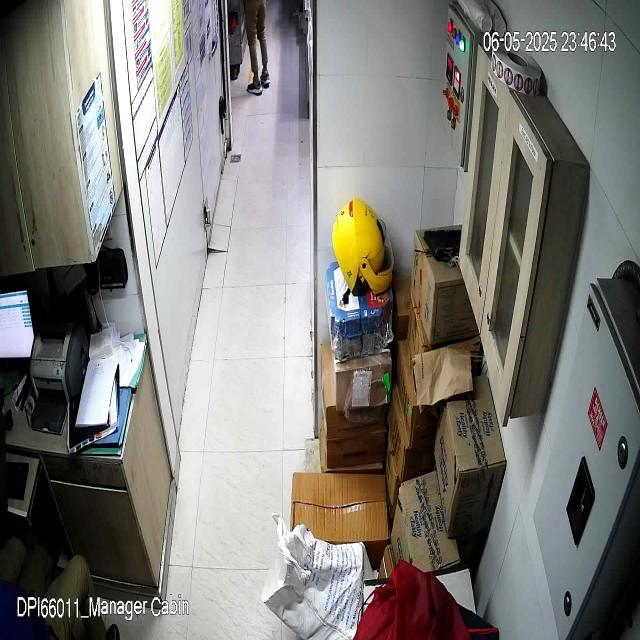helmet: (332, 198, 396, 298)
